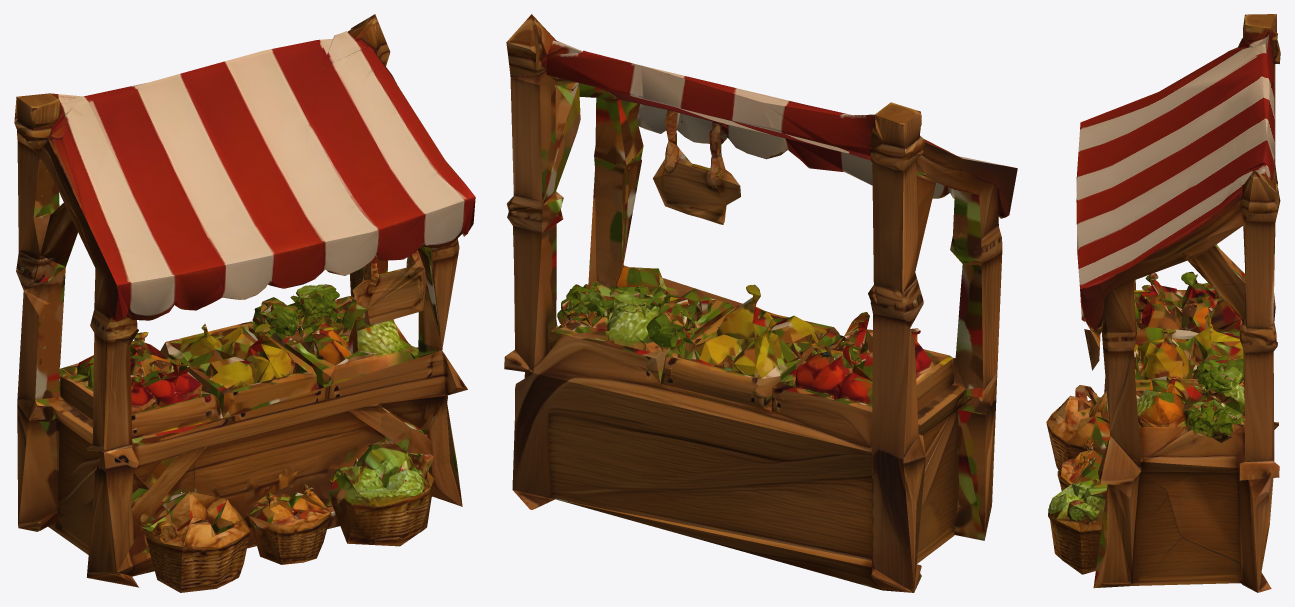
File: ck_stall.glb
3 views of the same model, side by side, from view 1: azimuth 30°, elevation 25°; view 2: azimuth 150°, elevation 25°; view 3: azimuth 270°, elevation 25° (orthographic). The views are drawn at different scales.
Parts seen in each view (by area): view 1: ck_stall; view 2: ck_stall; view 3: ck_stall.
Boxes of the visible parts, x1=… form: ck_stall: x1=14, y1=14, x2=475, y2=592; ck_stall: x1=504, y1=14, x2=1017, y2=592; ck_stall: x1=1046, y1=14, x2=1280, y2=592.
Bounding box in the file's own units: 1.75 × 1.99 × 1.
1 material, 1 textured.
